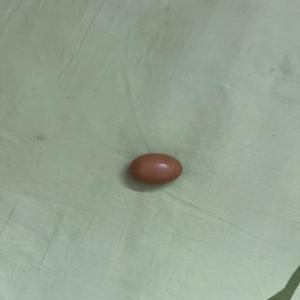egg: (127, 148, 187, 186)
